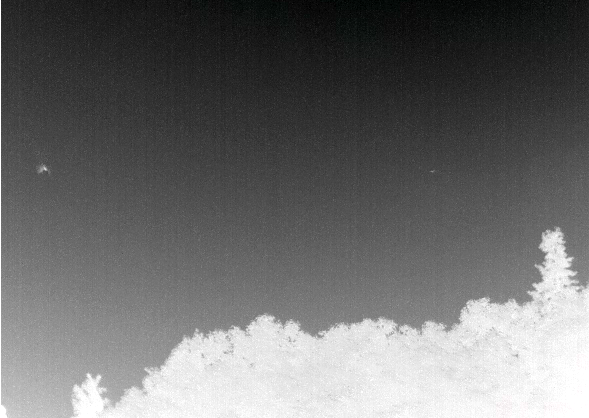dim target: (36, 164, 51, 175), (429, 168, 436, 174)
